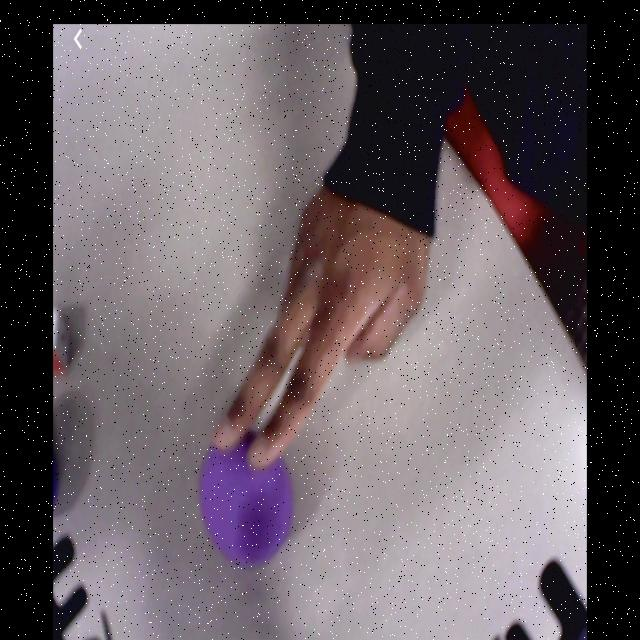ball: (200, 432, 294, 566)
